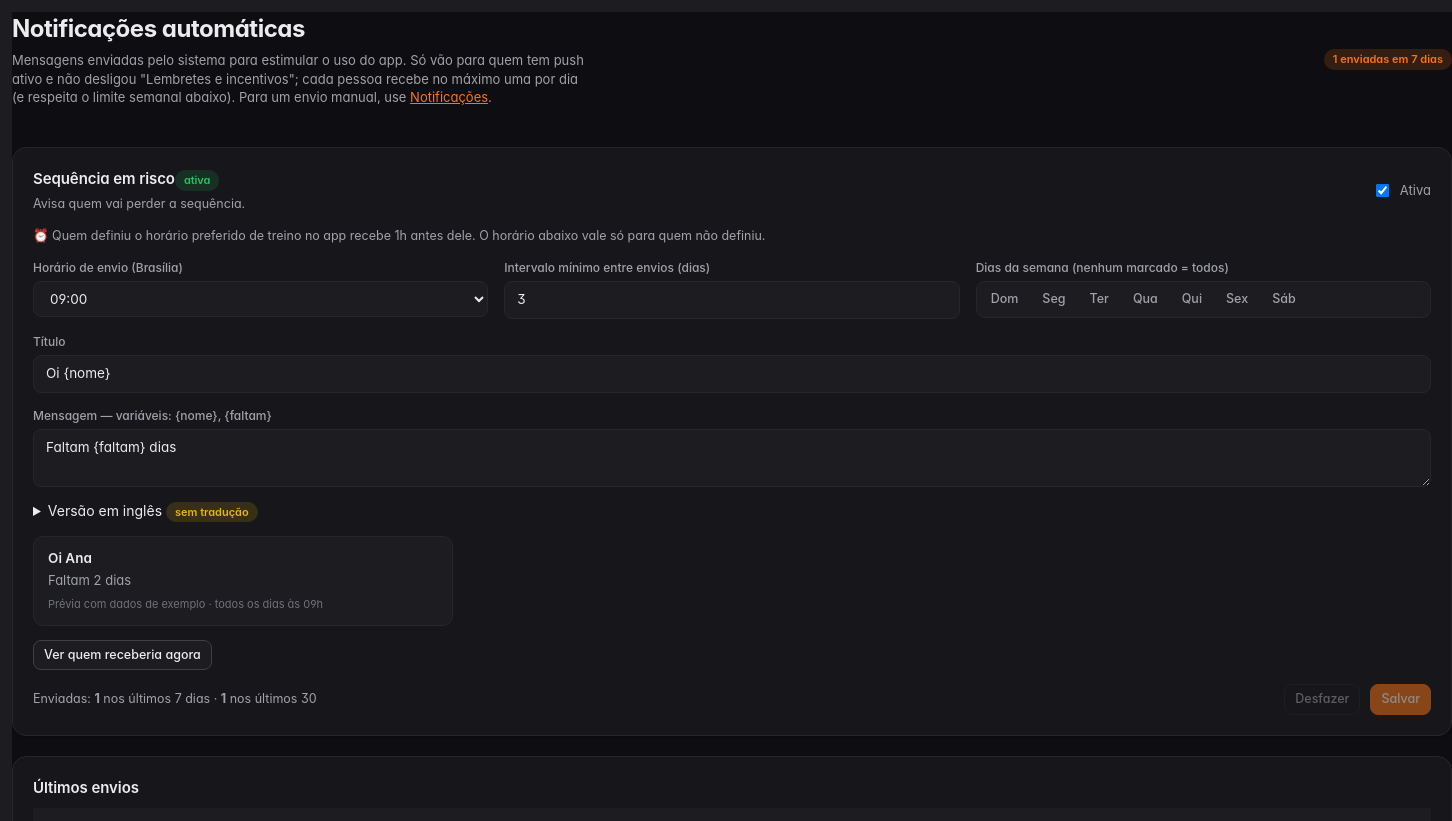
Test: AutoNotifications › salva campos normalizados (números, textos aparados, dias ordenados)
Expected: the heading "Sequência em risco ativa" is shown, [33, 168, 245, 191]
Replace the text in the field labelled "Título" with "  Novo  ": x=732, y=374 [33, 355, 1431, 393]
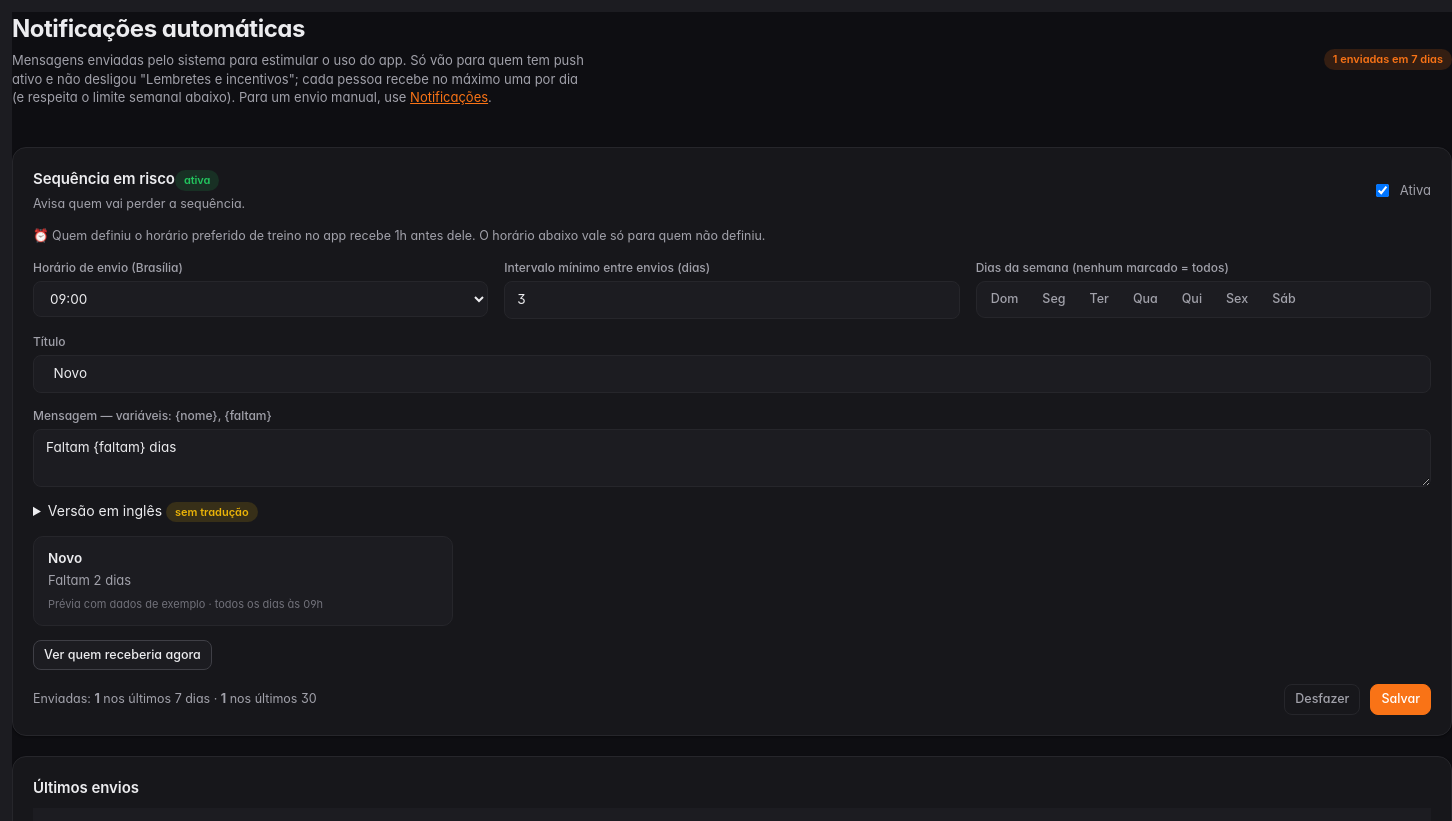
Select "18:00" in the dropdown labelled "Horário de envio (Brasília)": x=261, y=300 [33, 282, 488, 318]
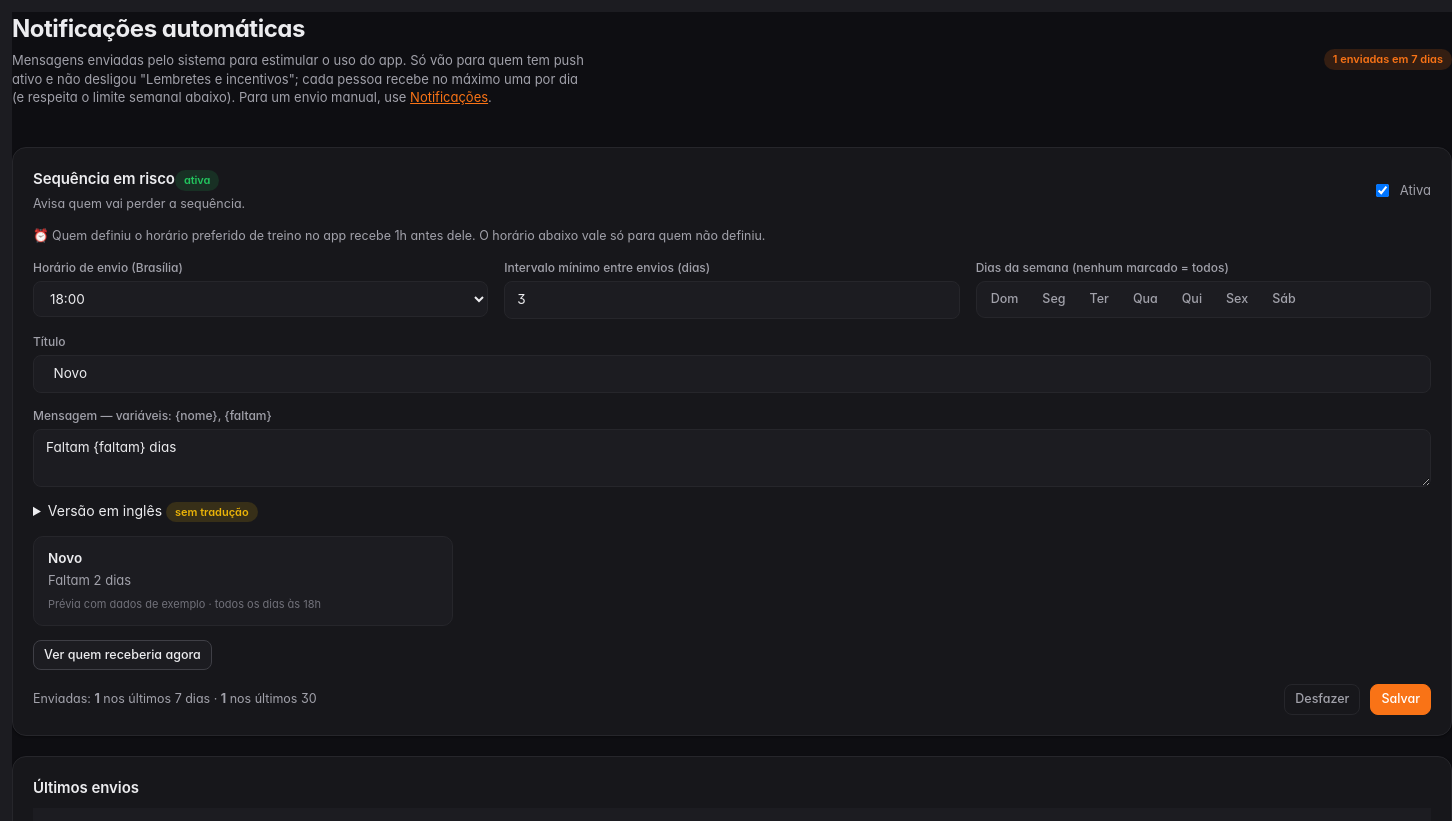
Click the button "Qua": x=1145, y=300 [1122, 286, 1169, 314]
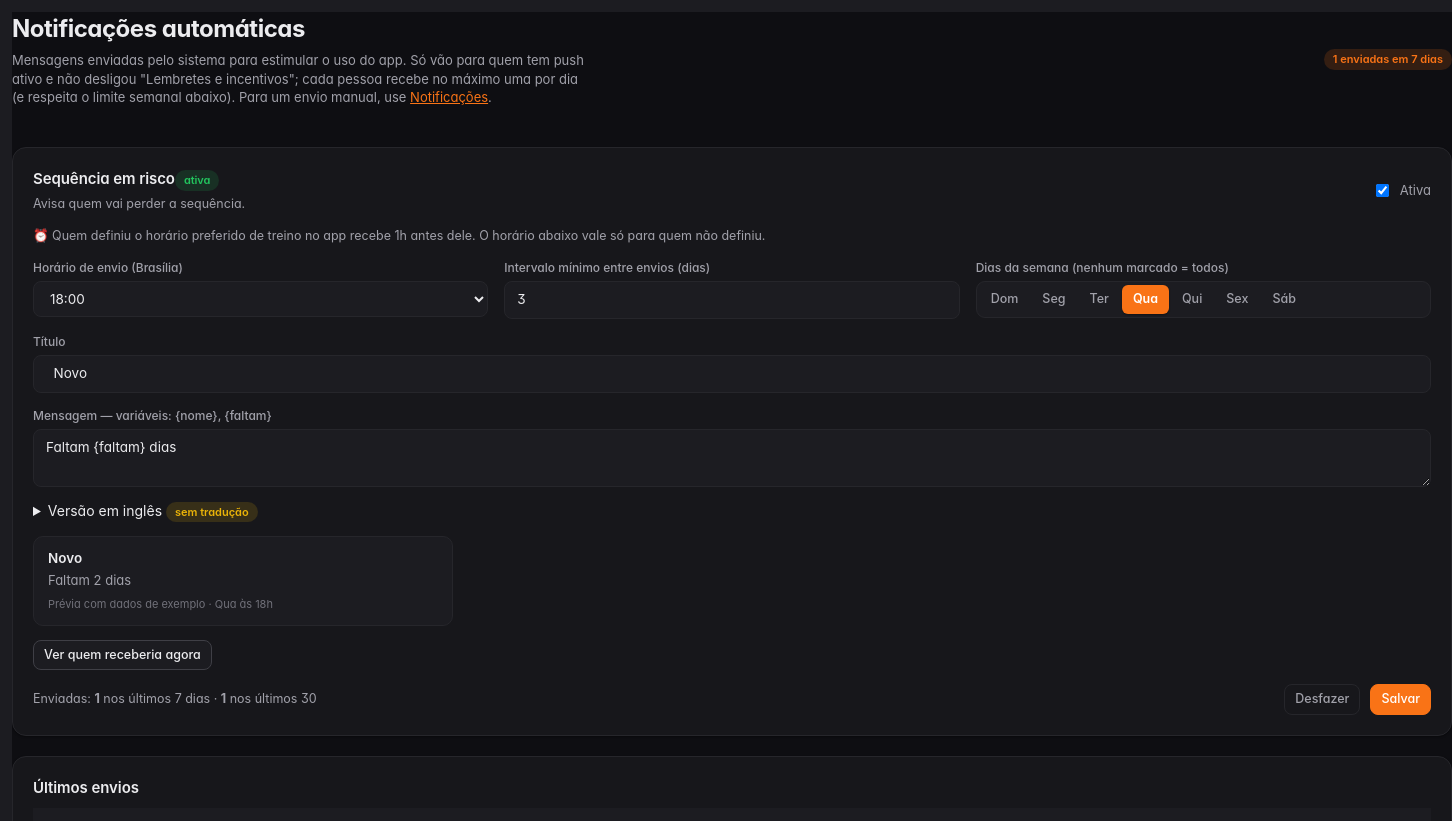
Click the button "Seg": x=1054, y=300 [1031, 286, 1076, 314]
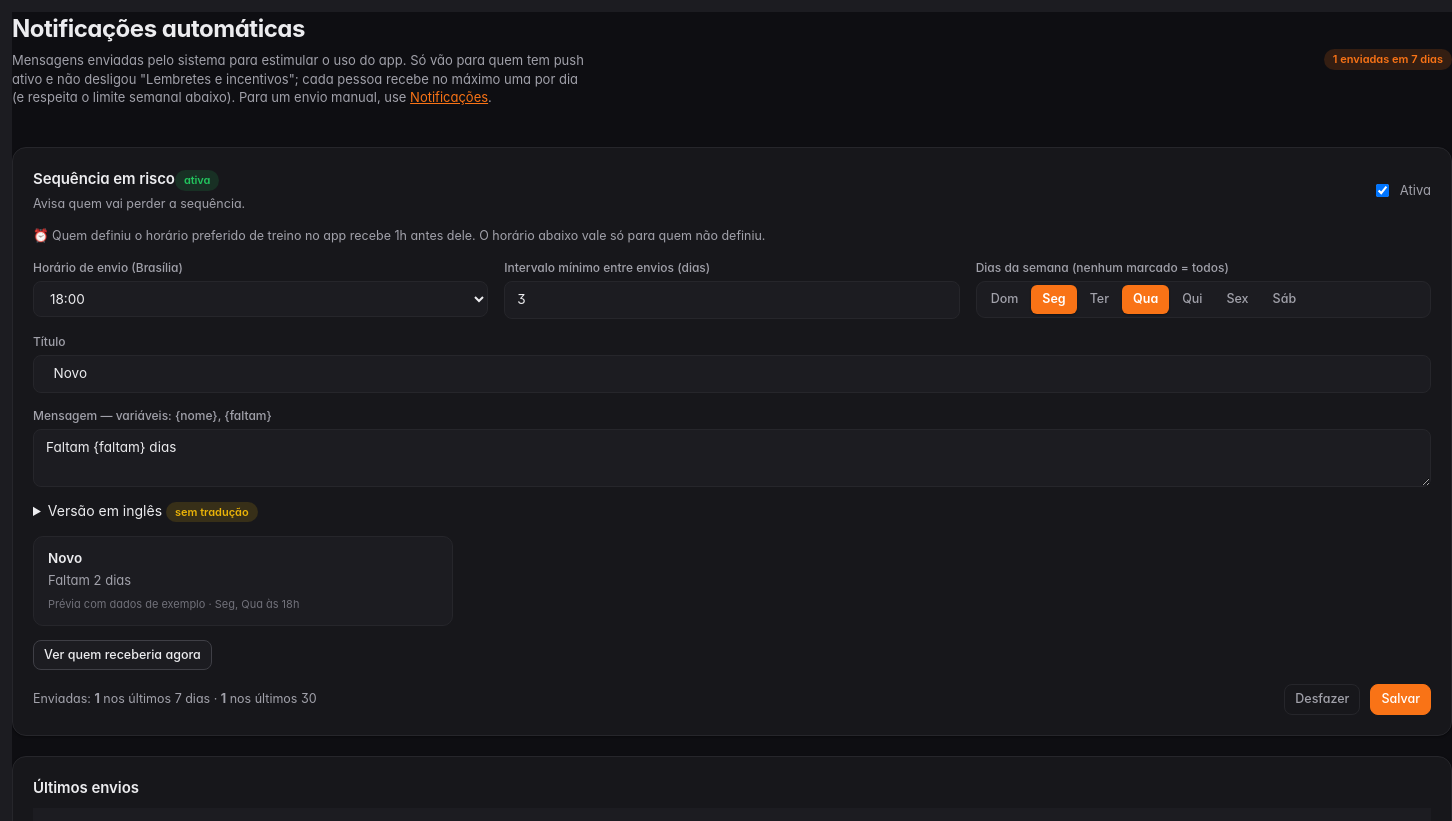
Click the button "Salvar": x=1401, y=700 [1370, 684, 1431, 715]
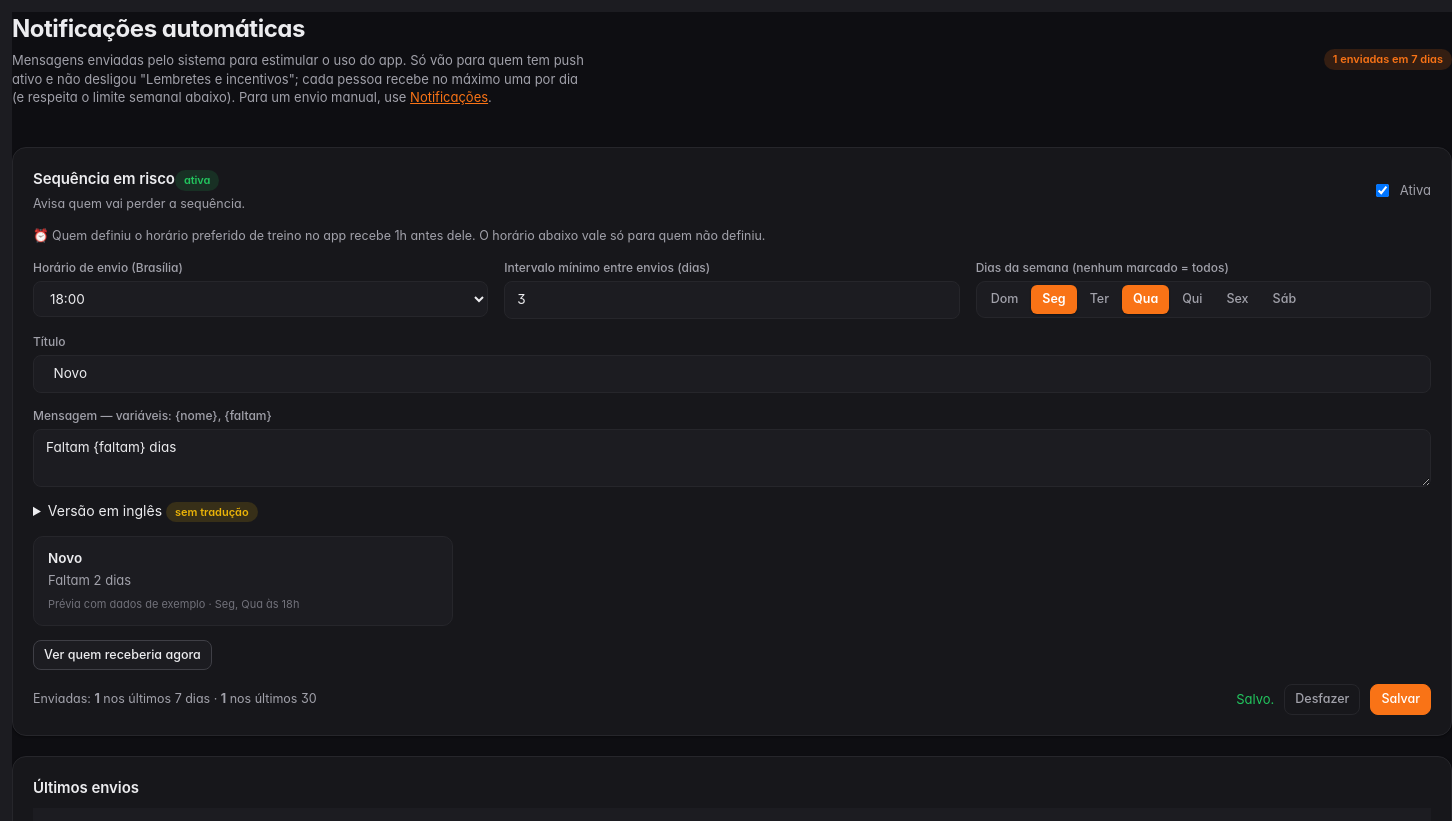
Expected: the text "Salvo." is shown, [1236, 690, 1274, 709]
